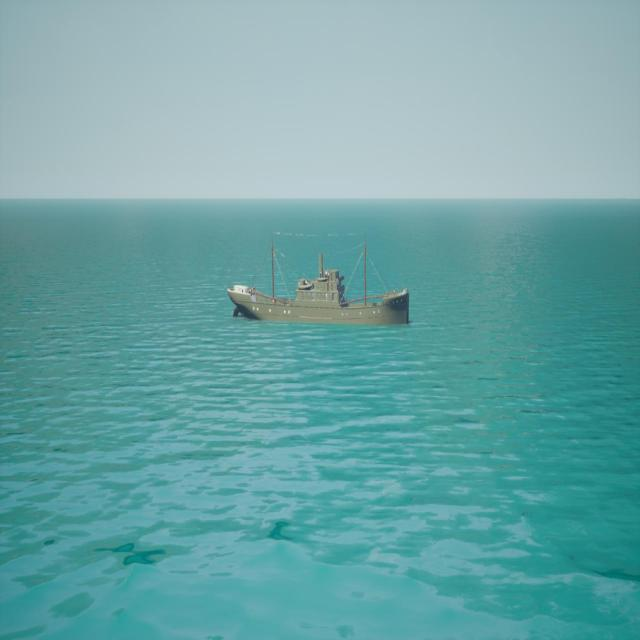fishing ship: (228, 234, 410, 327)
